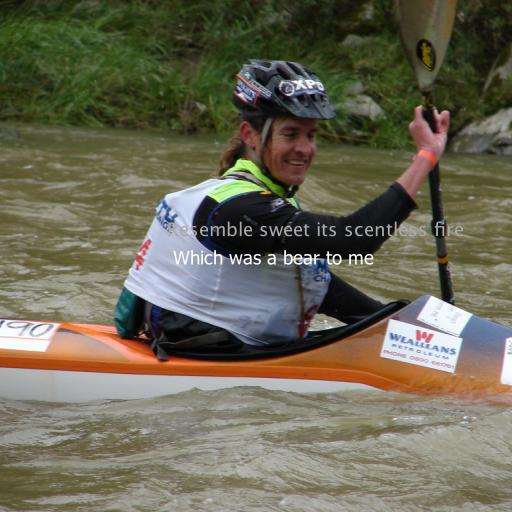Lucida Grande: (166, 221, 464, 237)
Tahoma: (172, 250, 374, 265)
